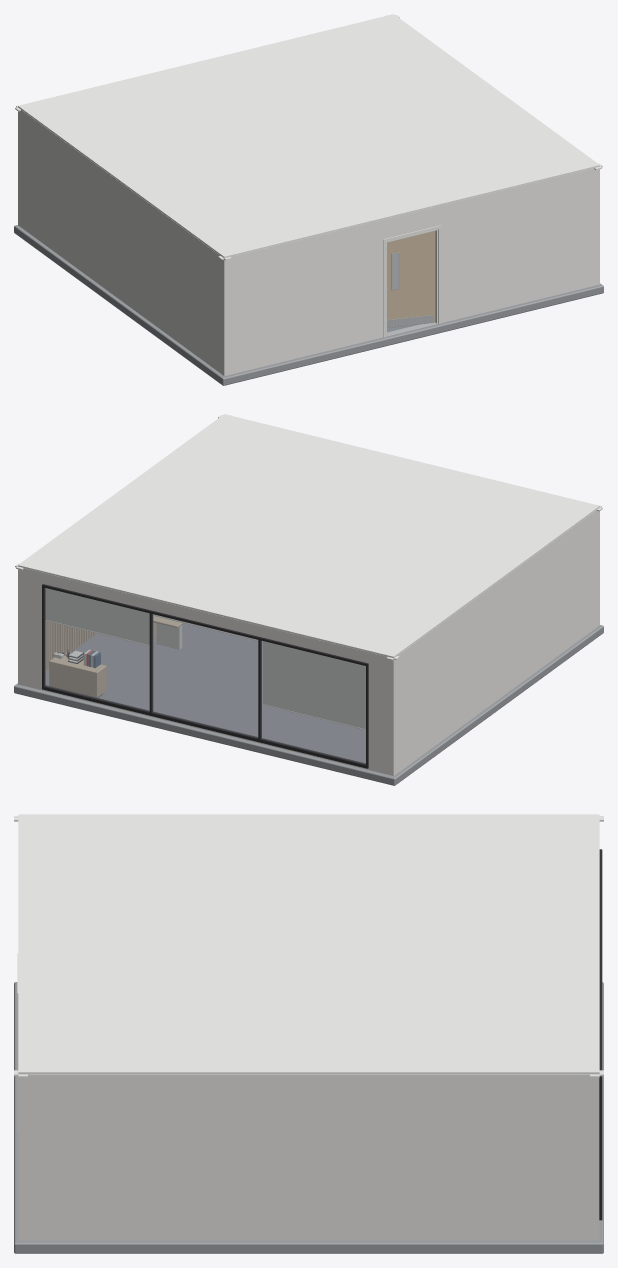
The model's file is interview_01_A.glb.
The picture shows the model from 3 angles, top to bottom: view 1: azimuth 30°, elevation 25°; view 2: azimuth 150°, elevation 25°; view 3: azimuth 270°, elevation 25°; orthographic projection. The views are drawn at different scales.
Visible parts, largest first — view 1: slab.005, wall.084, wall.077, wall.079, interview_01_A_Slab, leaf.1571, wall.078, cap.018; view 2: slab.005, glass.007, wall.084, floor, blind.020, interview_01_A_Slab, blind.022, wall.080, wall.082, wall.083, foot.013, body.010 (+5 smaller); view 3: slab.005, wall.085, interview_01_A_Slab, cap.021, wall.079, wall.083, head.010.
Part boxes in pixels (box(x1,y1,x2,y2)): slab.005: box(18, 14, 599, 259); wall.084: box(21, 111, 220, 373); wall.077: box(221, 220, 386, 375); wall.079: box(438, 169, 599, 322); interview_01_A_Slab: box(14, 225, 603, 385); leaf.1571: box(387, 231, 435, 327); wall.078: box(386, 208, 437, 238); cap.018: box(218, 163, 602, 259); slab.005: box(18, 414, 599, 659); glass.007: box(45, 588, 365, 763); wall.084: box(397, 511, 596, 773); floor: box(46, 623, 365, 763); blind.020: box(263, 641, 365, 729); interview_01_A_Slab: box(14, 625, 603, 785); blind.022: box(45, 588, 149, 644); wall.080: box(368, 654, 396, 775); wall.082: box(43, 574, 368, 663); wall.083: box(18, 569, 45, 690); foot.013: box(42, 685, 367, 768); body.010: box(49, 655, 106, 697); slab.005: box(18, 814, 599, 1076); wall.085: box(27, 1076, 590, 1240); interview_01_A_Slab: box(14, 982, 603, 1253); cap.021: box(14, 1070, 603, 1076); wall.079: box(18, 1078, 27, 1240); wall.083: box(590, 1078, 599, 1240); head.010: box(599, 849, 602, 1070).
Size of the model in its own units: 10.3 by 3.3 by 9.8.
